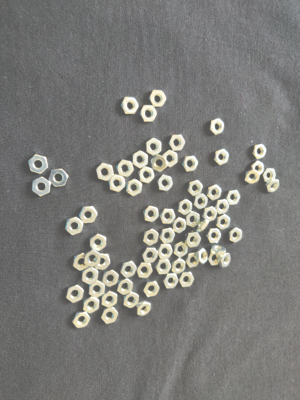nut: (28, 154, 49, 174), (32, 177, 51, 197), (65, 217, 84, 236), (49, 169, 69, 187), (108, 174, 126, 193), (66, 285, 85, 303), (79, 206, 98, 224), (149, 90, 167, 108), (96, 163, 114, 181), (101, 307, 119, 325), (73, 253, 91, 271), (117, 159, 134, 178), (90, 233, 107, 252), (140, 105, 158, 122), (151, 155, 168, 173), (126, 179, 143, 197), (102, 270, 120, 287), (73, 312, 91, 329), (93, 254, 111, 271), (133, 150, 149, 169), (90, 280, 106, 299), (85, 249, 101, 268), (122, 97, 139, 114), (138, 167, 155, 184), (159, 208, 176, 225), (82, 268, 99, 285), (144, 280, 160, 298), (121, 260, 137, 278), (169, 135, 186, 151), (182, 156, 199, 172), (188, 180, 204, 197), (185, 232, 202, 248), (157, 175, 173, 192), (143, 206, 159, 223), (136, 300, 152, 317), (118, 279, 134, 296), (102, 291, 118, 308), (84, 297, 100, 314), (210, 118, 225, 136), (163, 150, 178, 168), (147, 138, 162, 156), (225, 190, 241, 206), (179, 272, 195, 288), (160, 228, 176, 244), (158, 244, 174, 260), (142, 247, 158, 263), (137, 263, 153, 279), (215, 149, 230, 166), (178, 199, 193, 216), (174, 241, 189, 258), (162, 274, 179, 289), (144, 229, 159, 246), (124, 292, 139, 309), (216, 214, 231, 230), (207, 185, 222, 201), (203, 206, 218, 222), (206, 229, 222, 244), (194, 194, 209, 210), (156, 260, 172, 275), (173, 217, 187, 234), (246, 169, 261, 184), (172, 259, 187, 274), (253, 144, 267, 160), (229, 228, 243, 244), (185, 252, 199, 268), (196, 248, 209, 265), (187, 211, 200, 228), (266, 179, 281, 193), (263, 168, 277, 183), (218, 253, 232, 268), (216, 199, 229, 215), (196, 219, 210, 233), (252, 161, 265, 175), (211, 245, 227, 256), (208, 252, 220, 266)
